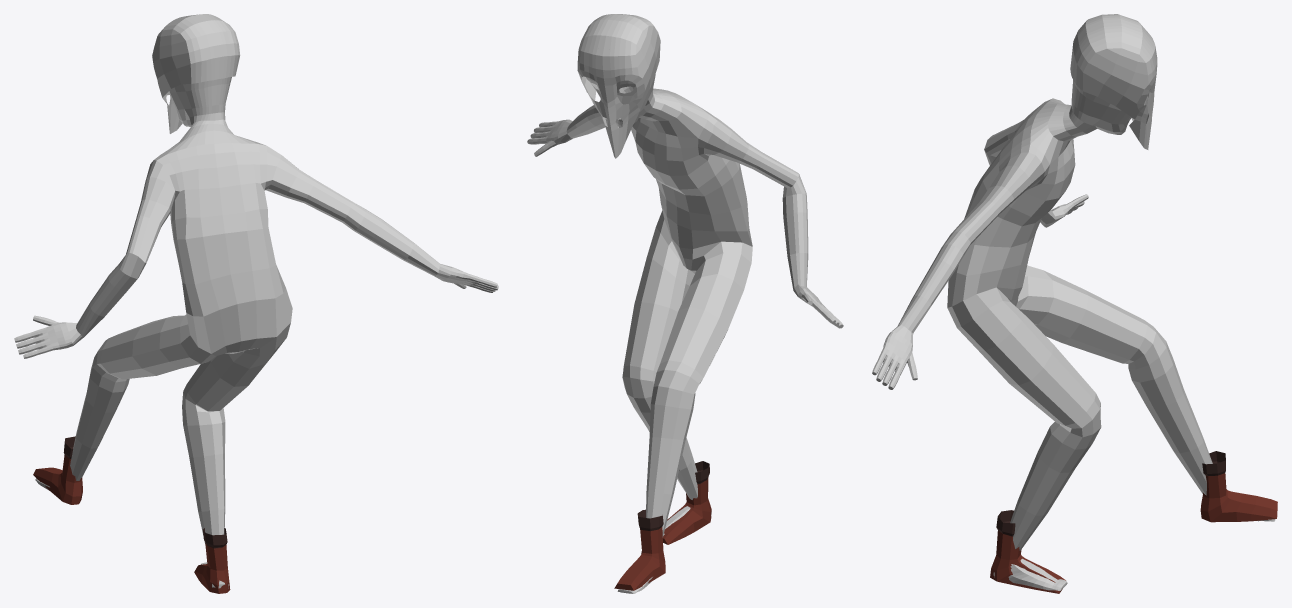
Rendered from saltoadelante_000130.obj.
3 renders of one model, left to right at view 1: azimuth 30°, elevation 25°; view 2: azimuth 150°, elevation 25°; view 3: azimuth 270°, elevation 25°, orthographic. The views are drawn at different scales.
Parts seen in each view (by area): view 1: Plane.002_Plane.001, Plane.003, Plane.004; view 2: Plane.002_Plane.001, Plane.004, Plane.003; view 3: Plane.002_Plane.001, Plane.004, Plane.003.
Boxes of the visible parts, x1=… form: Plane.002_Plane.001: x1=14, y1=14, x2=498, y2=588; Plane.003: x1=194, y1=528, x2=230, y2=593; Plane.004: x1=33, y1=436, x2=82, y2=504; Plane.002_Plane.001: x1=527, y1=14, x2=843, y2=593; Plane.004: x1=614, y1=509, x2=665, y2=590; Plane.003: x1=663, y1=461, x2=711, y2=544; Plane.002_Plane.001: x1=872, y1=14, x2=1275, y2=590; Plane.004: x1=1200, y1=451, x2=1277, y2=522; Plane.003: x1=990, y1=510, x2=1065, y2=593.
Bounding box in the file's own units: 4.76 × 6.15 × 3.92.
